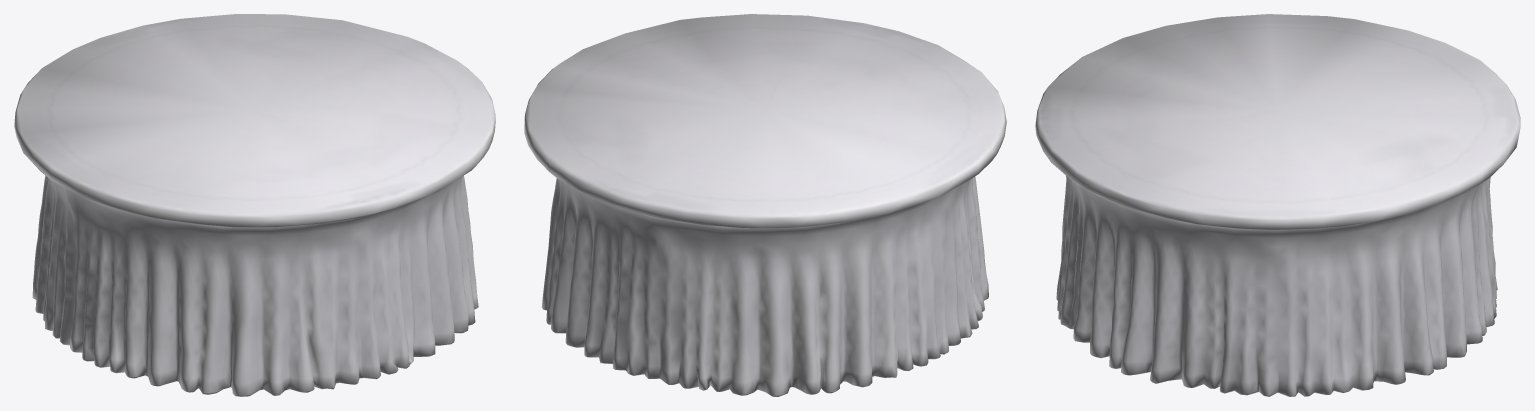
The model's file is Round_Spandex_Table_Skirt_Frill_bottom_0406025807_texture.glb.
3 views of the same model, side by side, from view 1: azimuth 30°, elevation 25°; view 2: azimuth 150°, elevation 25°; view 3: azimuth 270°, elevation 25° (orthographic).
Visible parts, largest first — view 1: Mesh_0.001; view 2: Mesh_0.001; view 3: Mesh_0.001.
Part boxes in pixels (x1=…): Mesh_0.001: x1=14, y1=14, x2=495, y2=396; Mesh_0.001: x1=524, y1=14, x2=1006, y2=396; Mesh_0.001: x1=1035, y1=14, x2=1520, y2=396.
Size of the model in its own units: 1.73 by 0.762 by 1.73.
Materials: 1 (1 with a texture image).
